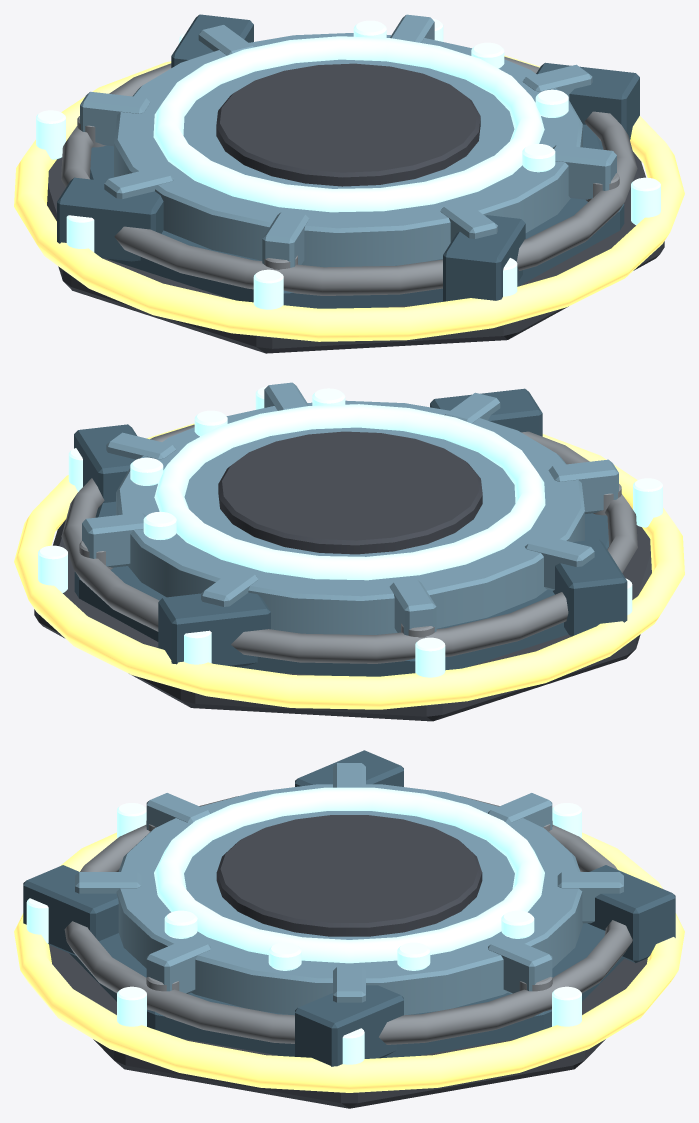
The model's file is frost_base_l4.glb.
3 views of the same model, one above another, from view 1: azimuth 30°, elevation 25°; view 2: azimuth 150°, elevation 25°; view 3: azimuth 270°, elevation 25° (orthographic).
Visible parts, largest first — view 1: Cylinder.002, Torus.002, Cylinder.003, Torus.001, Torus, Cylinder, Cylinder.001, Cube.010, Cube.011, Cube.008, Cube.007, Cube.003 (+15 smaller); view 2: Cylinder.002, Torus.002, Cylinder.003, Torus.001, Torus, Cylinder, Cylinder.001, Cube.009, Cube.010, Cube.008, Cube.001, Cube.011 (+16 smaller); view 3: Cylinder.002, Torus.002, Cylinder.003, Torus.001, Torus, Cylinder, Cylinder.001, Cube.008, Cube.011, Cube.009, Cube.001, Cube.007 (+17 smaller).
Boxes of the visible parts, <box> form: Cylinder.002: <box>114,33,582,267</box>; Torus.002: <box>14,55,684,341</box>; Cylinder.003: <box>216,63,480,186</box>; Torus.001: <box>153,36,544,212</box>; Torus: <box>61,56,637,295</box>; Cylinder: <box>47,152,664,353</box>; Cylinder.001: <box>90,124,624,308</box>; Cube.010: <box>57,177,163,261</box>; Cube.011: <box>443,215,525,301</box>; Cube.008: <box>536,62,639,139</box>; Cube.007: <box>553,144,616,199</box>; Cube.003: <box>80,91,150,146</box>; Cylinder.002: <box>116,400,584,634</box>; Torus.002: <box>14,423,684,709</box>; Cylinder.003: <box>218,431,482,554</box>; Torus.001: <box>154,404,545,580</box>; Torus: <box>61,424,637,663</box>; Cylinder: <box>34,519,651,721</box>; Cylinder.001: <box>74,501,608,676</box>; Cube.009: <box>158,592,270,666</box>; Cube.010: <box>553,539,627,636</box>; Cube.008: <box>74,424,137,502</box>; Cube.001: <box>82,512,145,567</box>; Cube.011: <box>430,388,542,436</box>; Cylinder.002: <box>116,784,583,1015</box>; Torus.002: <box>14,832,684,1092</box>; Cylinder.003: <box>216,815,482,936</box>; Torus.001: <box>154,787,544,963</box>; Torus: <box>64,796,632,1044</box>; Cylinder: <box>49,945,647,1108</box>; Cylinder.001: <box>69,923,624,1057</box>; Cube.008: <box>295,985,403,1066</box>; Cube.011: <box>23,865,118,956</box>; Cube.009: <box>588,865,675,962</box>; Cube.001: <box>488,937,552,993</box>; Cube.007: <box>146,937,210,993</box>.
Bounding box in the file's own units: 2.22 × 0.4 × 2.22.
